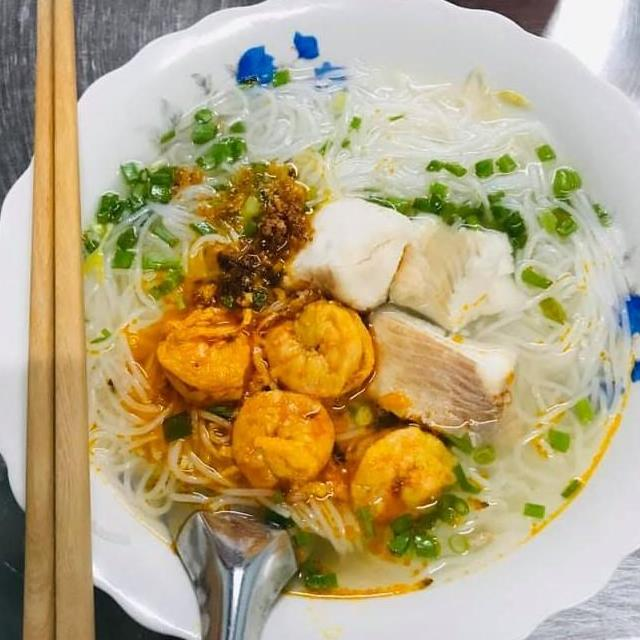bun: (164, 54, 580, 198), (88, 176, 230, 492), (514, 180, 640, 461)
bun ca: (0, 30, 640, 640)
ca: (358, 296, 522, 448), (378, 205, 526, 339), (278, 189, 419, 316)
tom: (220, 382, 340, 504), (340, 420, 462, 528), (255, 296, 378, 402), (156, 299, 260, 409)
